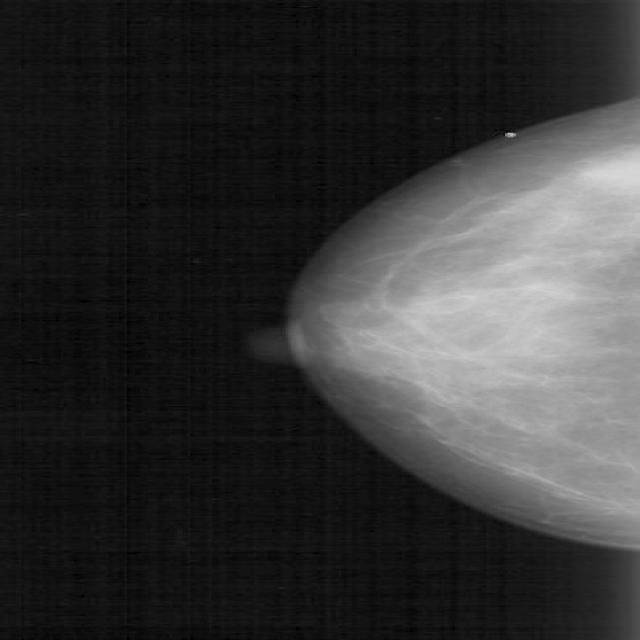tumour: (576, 150, 638, 195)
